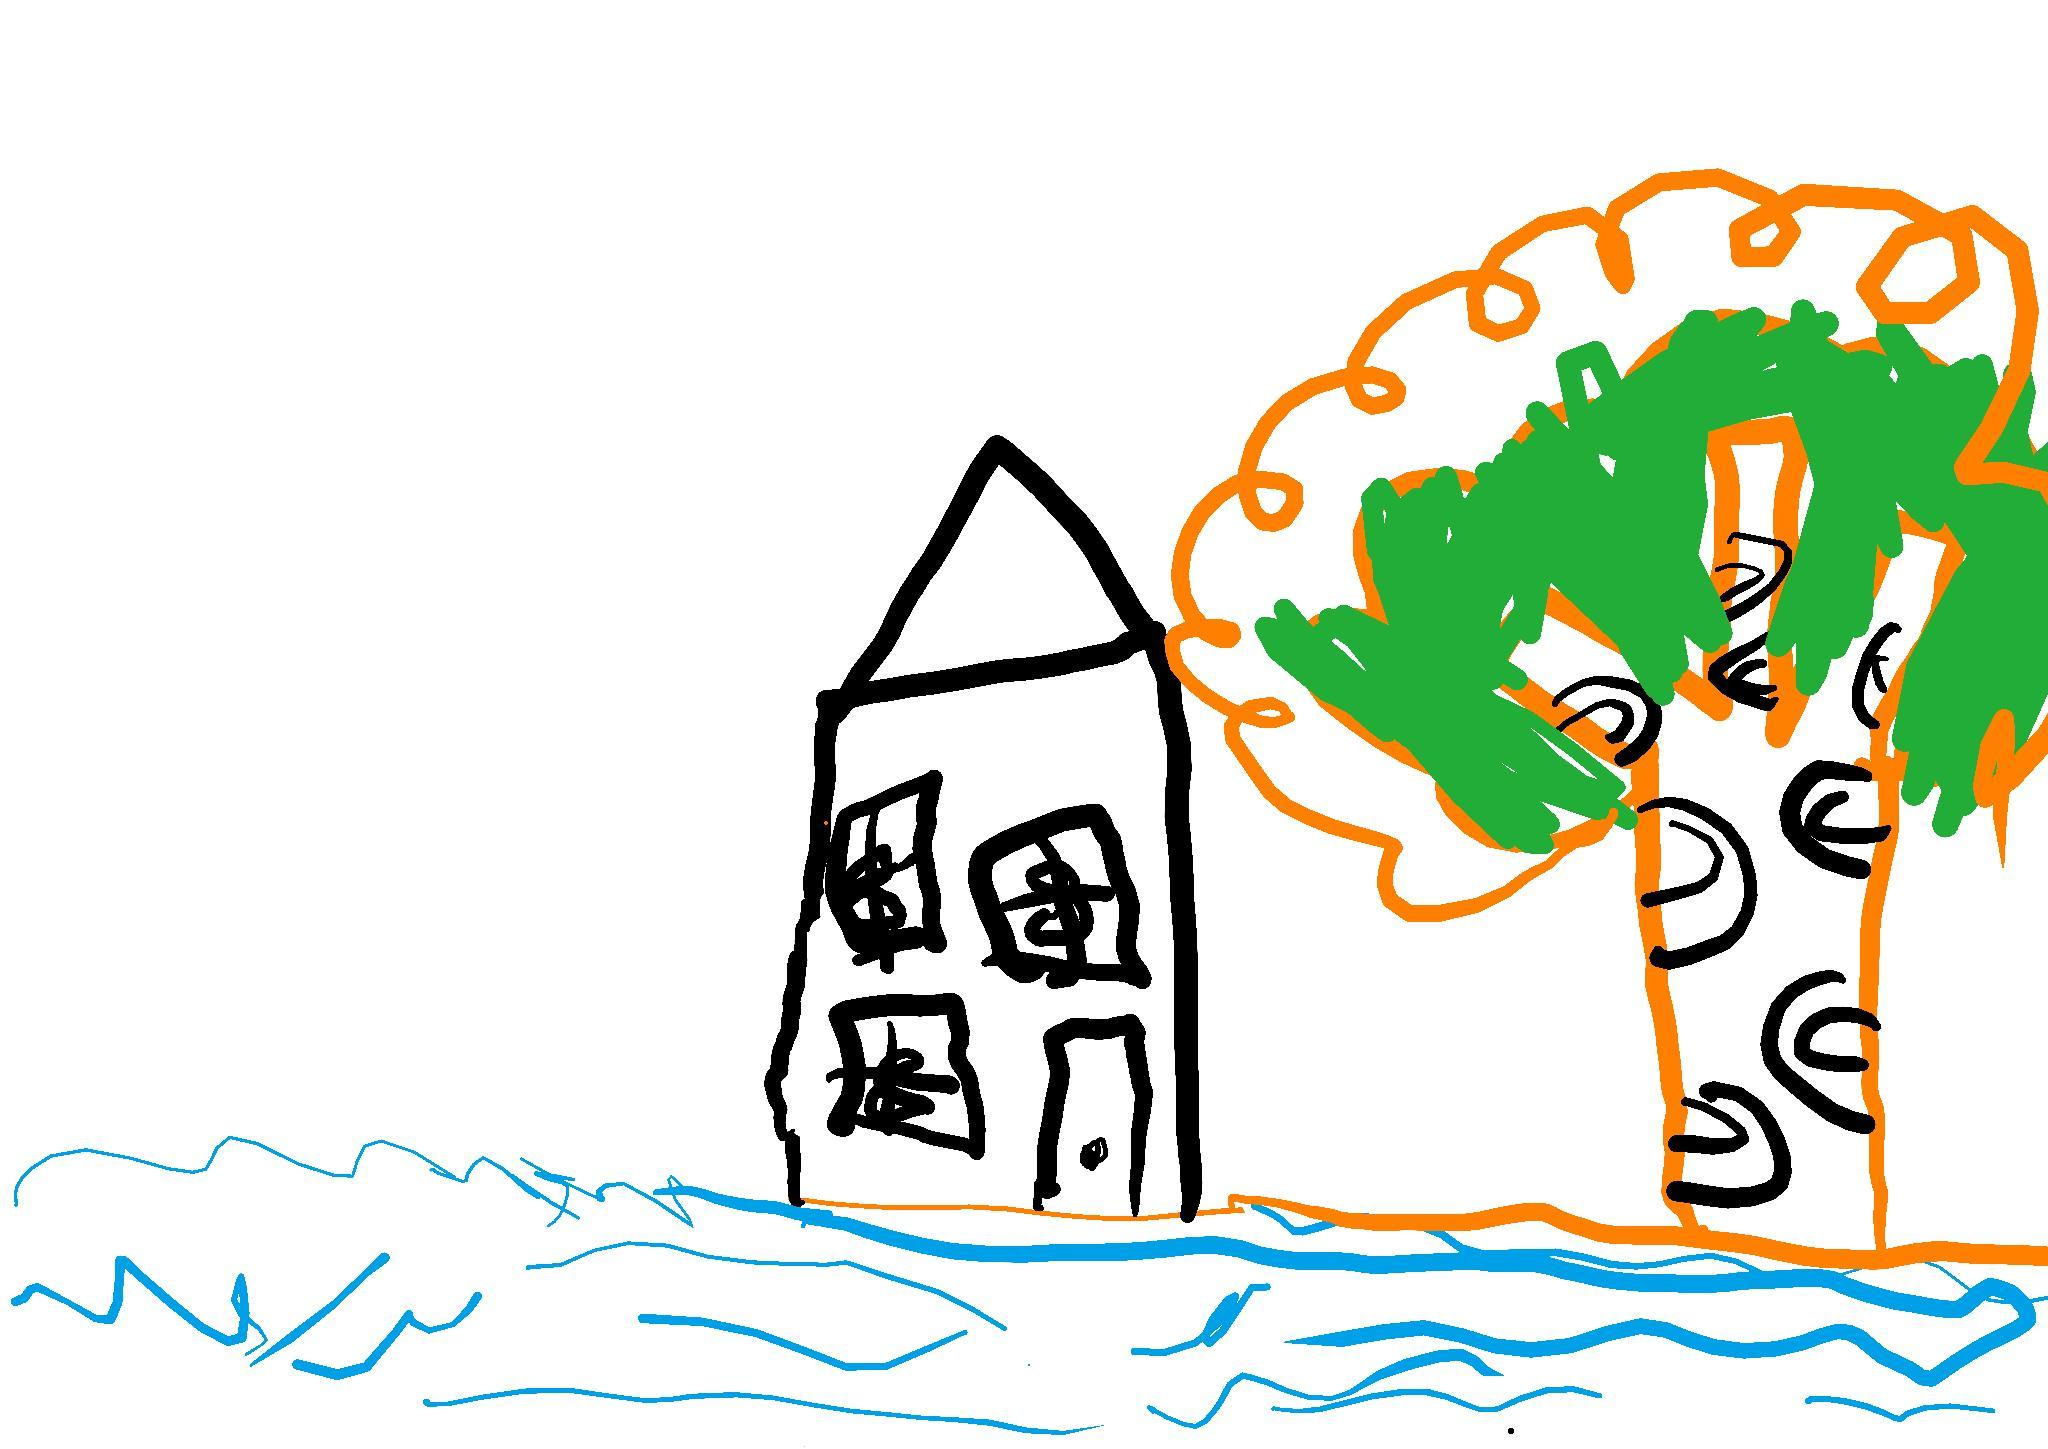door: (1024, 1019, 1145, 1218)
house: (765, 436, 1203, 1222)
roof: (852, 444, 1154, 692)
wall: (819, 685, 1196, 1218)
window: (971, 804, 1149, 990), (826, 996, 983, 1160), (826, 772, 947, 974)
